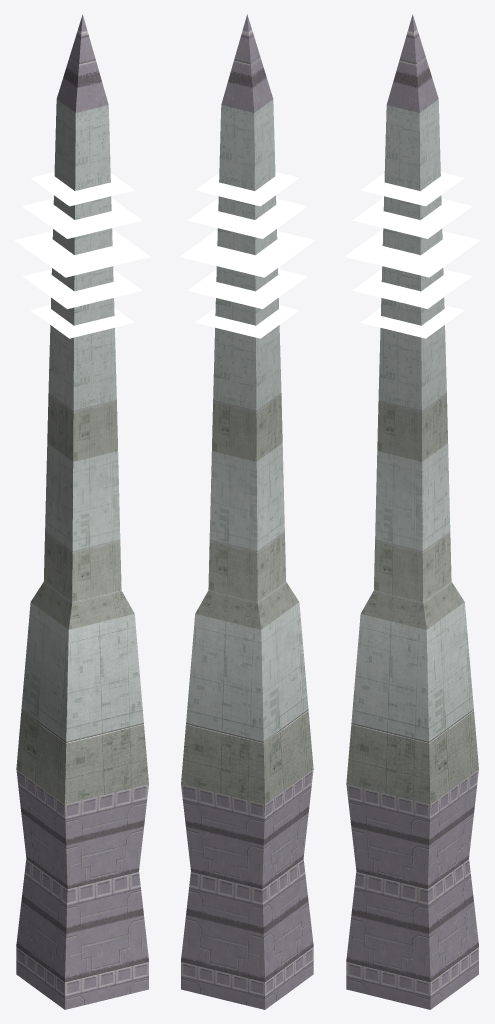
Rendered from bes2_bldg_clock_tower.glb.
The picture shows the model from 3 angles, left to right: view 1: azimuth 30°, elevation 25°; view 2: azimuth 150°, elevation 25°; view 3: azimuth 330°, elevation 25°; orthographic projection.
Parts seen in each view (by area): view 1: mesh_part3, mesh_part4, mesh_part1, mesh_part2, mesh_part5; view 2: mesh_part3, mesh_part4, mesh_part2, mesh_part1, mesh_part5; view 3: mesh_part3, mesh_part4, mesh_part1, mesh_part2, mesh_part5.
Boxes of the visible parts, box(x1,y1,x2,y2) form: mesh_part3: box(16, 99, 148, 804); mesh_part4: box(16, 769, 148, 1009); mesh_part1: box(22, 173, 150, 338); mesh_part2: box(14, 172, 141, 338); mesh_part5: box(56, 14, 108, 112); mesh_part3: box(181, 99, 313, 804); mesh_part4: box(181, 769, 313, 1009); mesh_part2: box(180, 182, 314, 338); mesh_part1: box(179, 172, 314, 338); mesh_part5: box(221, 14, 273, 112); mesh_part3: box(346, 99, 478, 804); mesh_part4: box(346, 769, 478, 1009); mesh_part1: box(344, 173, 480, 322); mesh_part2: box(345, 172, 478, 338); mesh_part5: box(386, 14, 438, 112).
Bounding box in the file's own units: 3.04 × 33 × 3.17.
4 materials, 3 textured.
